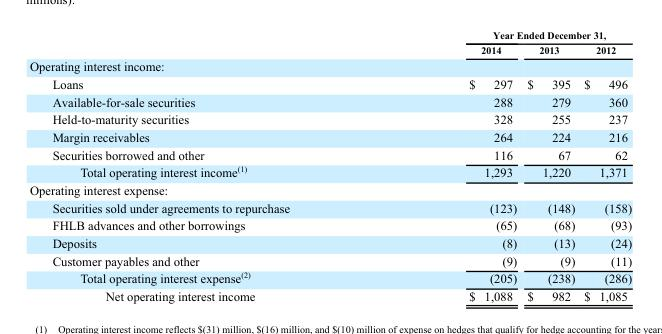table: (28, 28, 631, 302)
table column: (28, 28, 378, 302), (378, 28, 521, 302), (521, 28, 578, 302), (578, 28, 631, 302)
table column header: (28, 28, 631, 57)
table projected row header: (28, 180, 631, 198), (28, 57, 631, 74)
table row: (28, 74, 631, 92), (28, 92, 631, 110), (28, 127, 631, 145), (28, 162, 631, 180), (28, 180, 631, 198), (28, 198, 631, 216), (28, 233, 631, 251), (28, 268, 631, 286), (28, 57, 631, 74), (28, 110, 631, 127), (28, 145, 631, 162), (28, 216, 631, 233), (28, 251, 631, 268), (28, 286, 631, 302), (28, 42, 631, 57), (28, 28, 631, 42)
table spanning cell: (378, 28, 631, 42)
